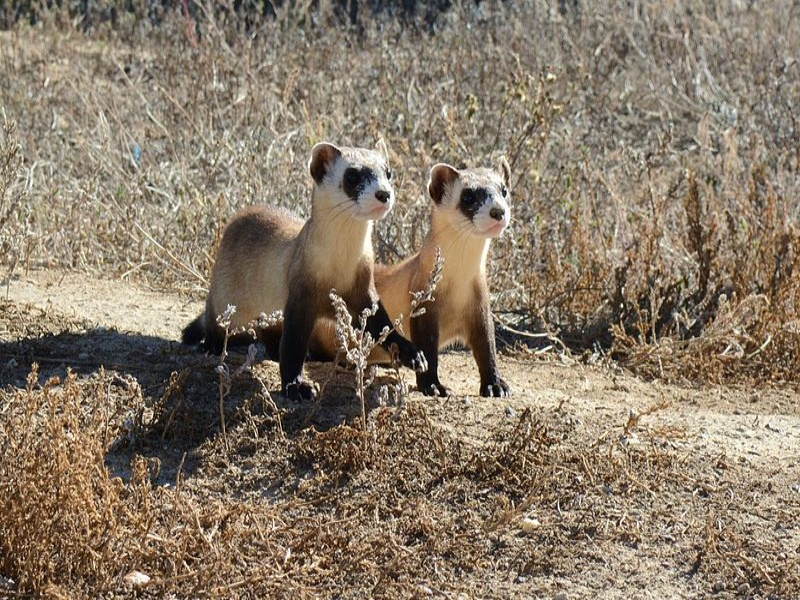minkish: (181, 136, 429, 397), (290, 153, 522, 406)
